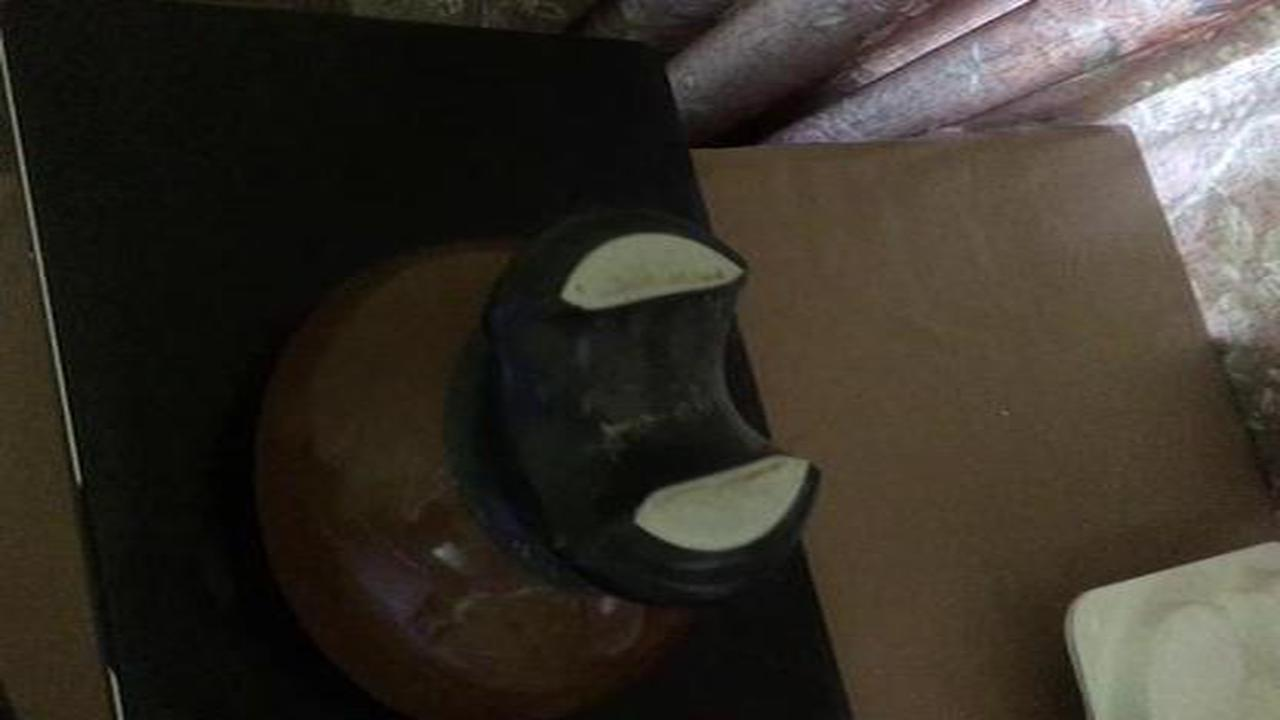insulator_pin: (241, 181, 844, 720)
